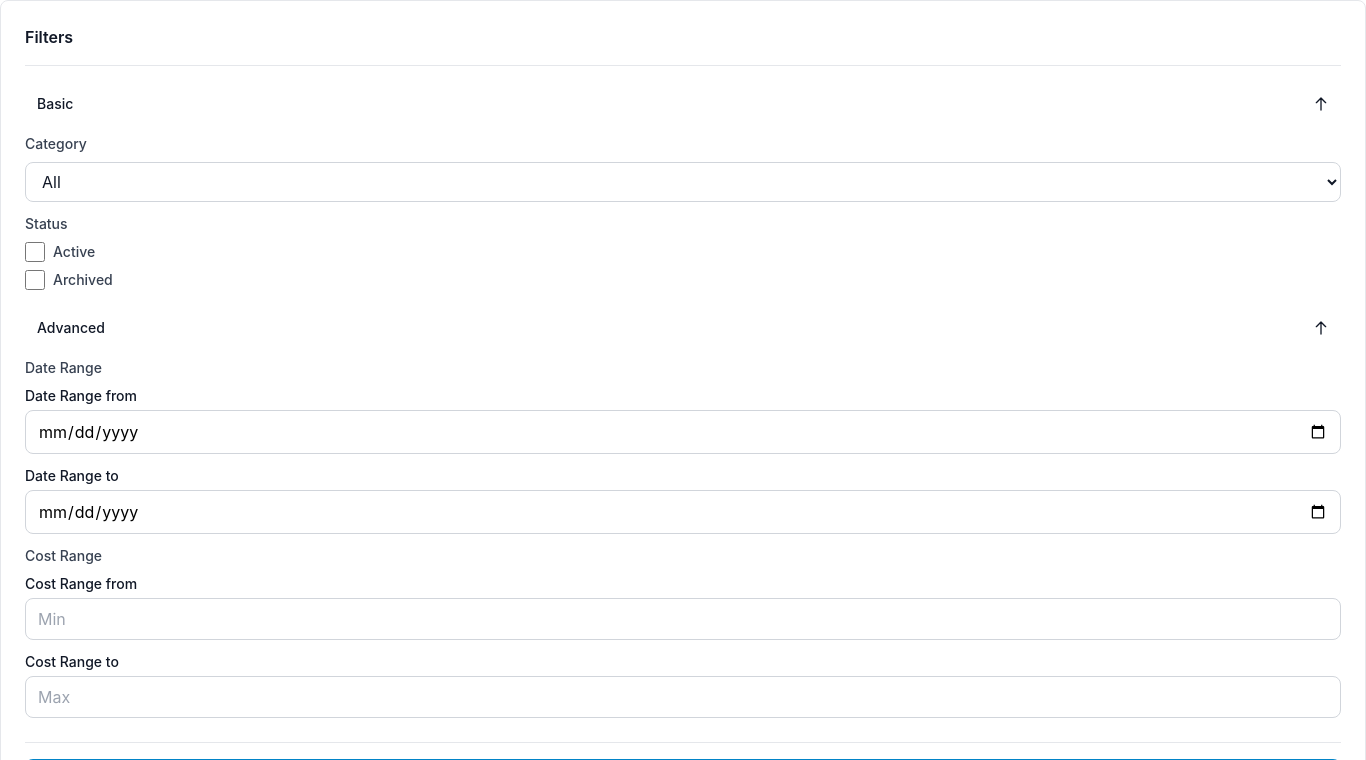
Test case: FilterPanel - Unit Tests › Collapsible Sections › should not render collapsed filters
The width and height of the screenshot is (1366, 760).
Click the button "Advanced" at (71, 328), box [25,306,1341,350]
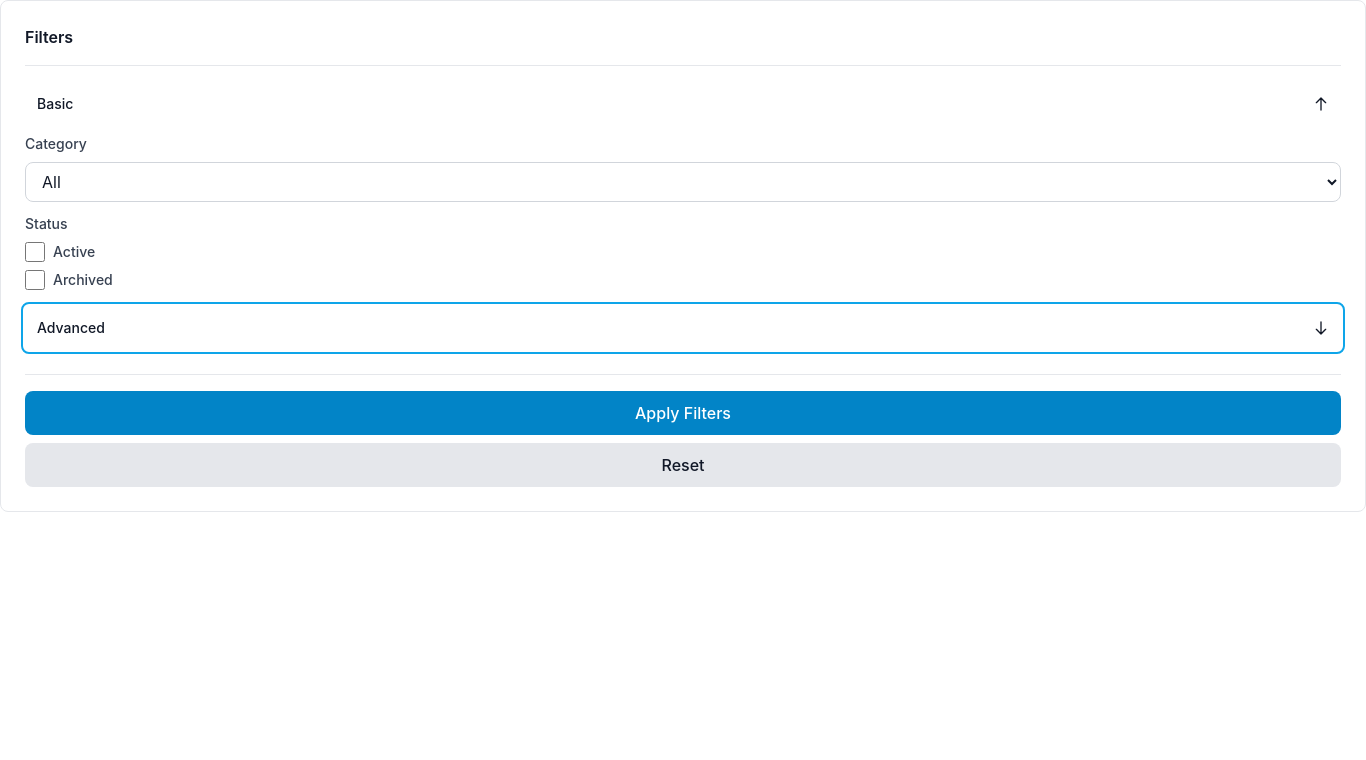
Check: the text "Date Range" is gone
